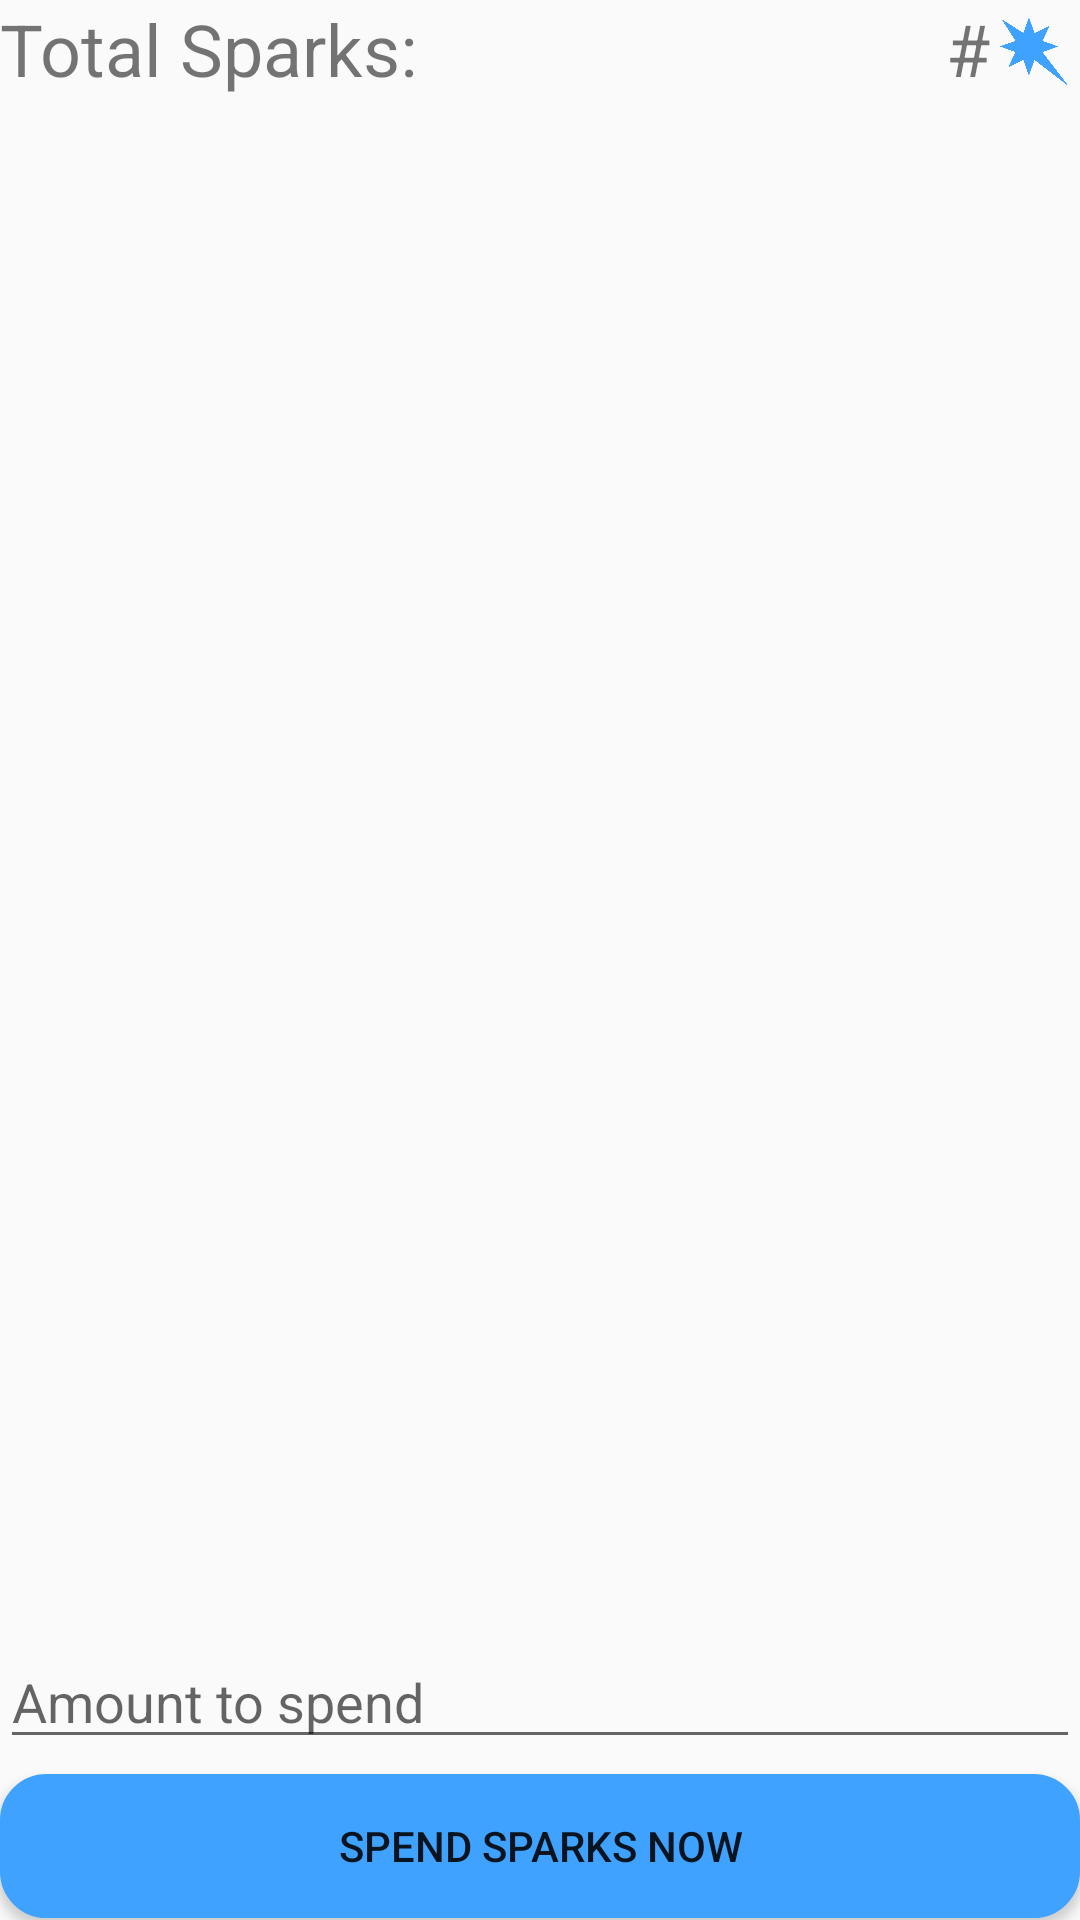

Where icons sit on this 1080w x 1920h app screen, as box=[x1, y1, x2, y2]:
spark: box=[1000, 18, 1067, 85]
